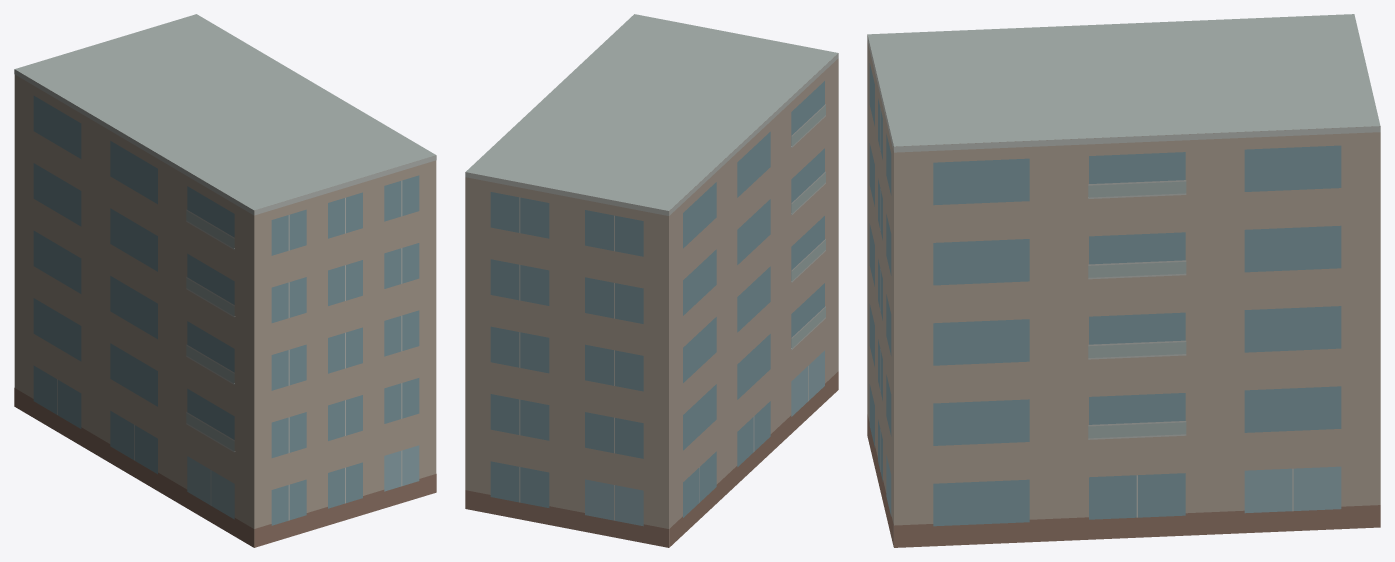
The model's file is survey-upis-32667029.glb.
3 views of the same model, side by side, from view 1: azimuth 30°, elevation 25°; view 2: azimuth 150°, elevation 25°; view 3: azimuth 270°, elevation 25° (orthographic). The views are drawn at different scales.
Parts seen in each view (by area): view 1: survey-upis-32667029.tmp; view 2: survey-upis-32667029.tmp; view 3: survey-upis-32667029.tmp.
Part boxes in pixels (left/top/right/bottom): survey-upis-32667029.tmp: left=14, top=14, right=436, bottom=547; survey-upis-32667029.tmp: left=465, top=14, right=838, bottom=547; survey-upis-32667029.tmp: left=867, top=14, right=1380, bottom=547.
Size of the model in its own units: 11.41 by 16.1 by 18.66.
